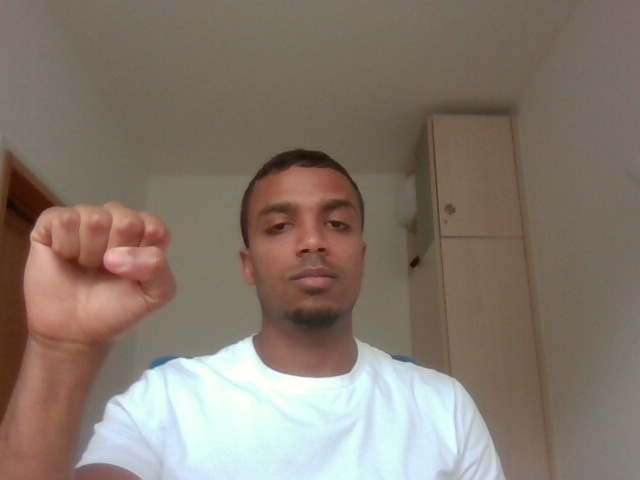neutral: (19, 182, 194, 375)
